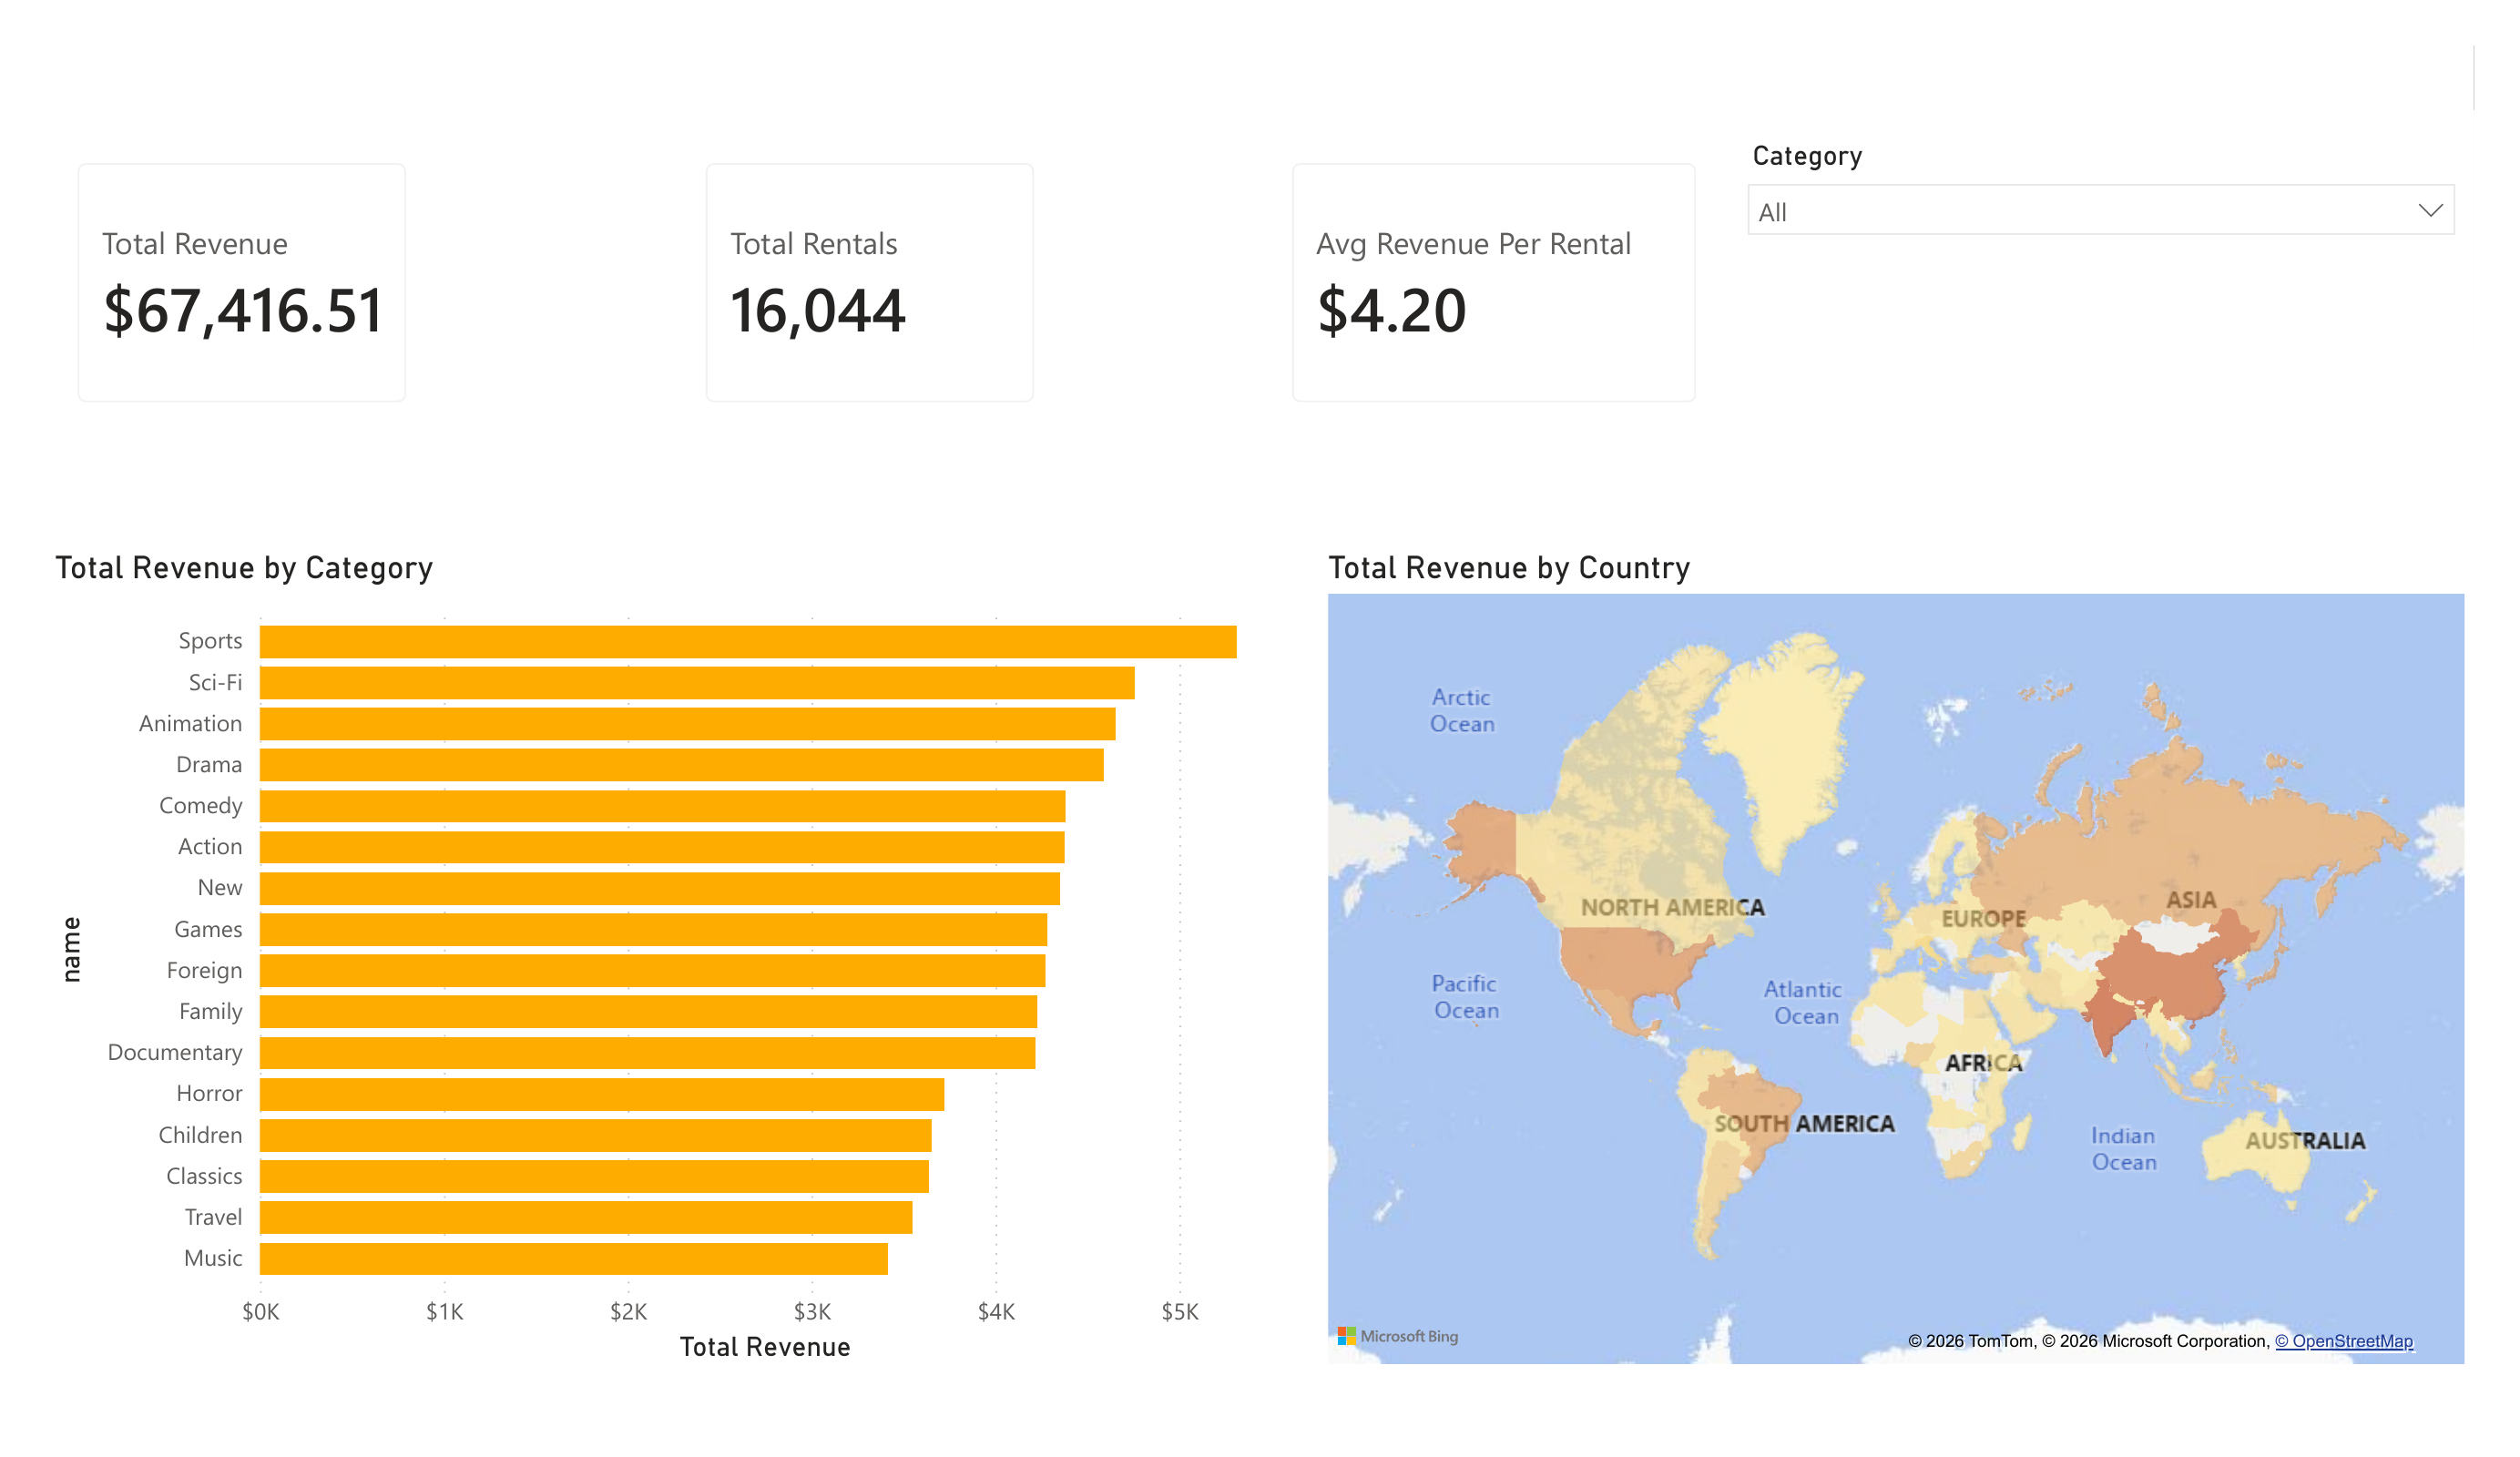

Layout of this report page (visuals, bound fields, positions):
{"tool":"powerbi","page":{"name":"Overview","canvas":[1280,720],"ordinal":0},"visuals":[{"type":"cardVisual","fields":{"Data":["AllMeasures.Total Revenue"]},"box":[0,44.7,207.2,160.5],"z":0},{"type":"cardVisual","fields":{"Data":["AllMeasures.Total Rentals"]},"box":[330.7,44.7,207.2,160.5],"z":1},{"type":"cardVisual","fields":{"Data":["AllMeasures.Avg Revenue Per Rental"]},"box":[640,44.7,247.1,160.5],"z":2},{"type":"clusteredBarChart","title":"Total Revenue by Category","fields":{"Category":["category.name"],"Y":["AllMeasures.Total Revenue"]},"box":[0,264.6,661.4,434.8],"z":3},{"type":"filledMap","title":"Total Revenue by Country","fields":{"Category":["country.country"]},"box":[671,265,609,435],"z":4},{"type":"slicer","title":"Category","fields":{"Values":["category.name"]},"box":[887,45,393,160],"z":5}]}

Visuals, with their boxes on the page's 1280x720 design canvas (x1, y1, x2, y2). These are canvas units, not pixel positions in the 2520x1457 screenshot, which may show the page scaled, cropped or inside an application window:
cardVisual - AllMeasures.Total Revenue: [x1=0, y1=45, x2=207, y2=205]
cardVisual - AllMeasures.Total Rentals: [x1=331, y1=45, x2=538, y2=205]
cardVisual - AllMeasures.Avg Revenue Per Rental: [x1=640, y1=45, x2=887, y2=205]
"Total Revenue by Category" clusteredBarChart: [x1=0, y1=265, x2=661, y2=699]
"Total Revenue by Country" filledMap: [x1=671, y1=265, x2=1280, y2=700]
"Category" slicer: [x1=887, y1=45, x2=1280, y2=205]
